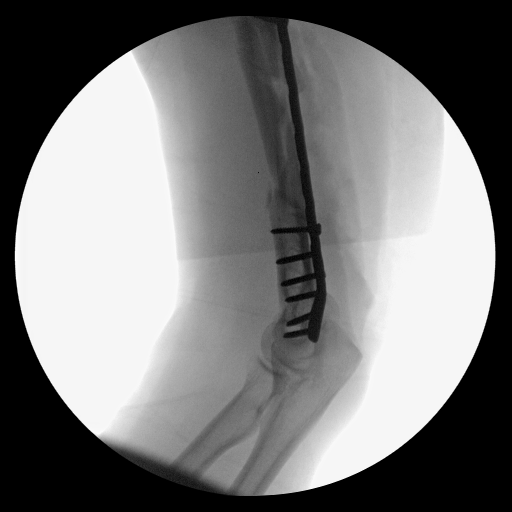implant: (269, 195, 328, 344)
